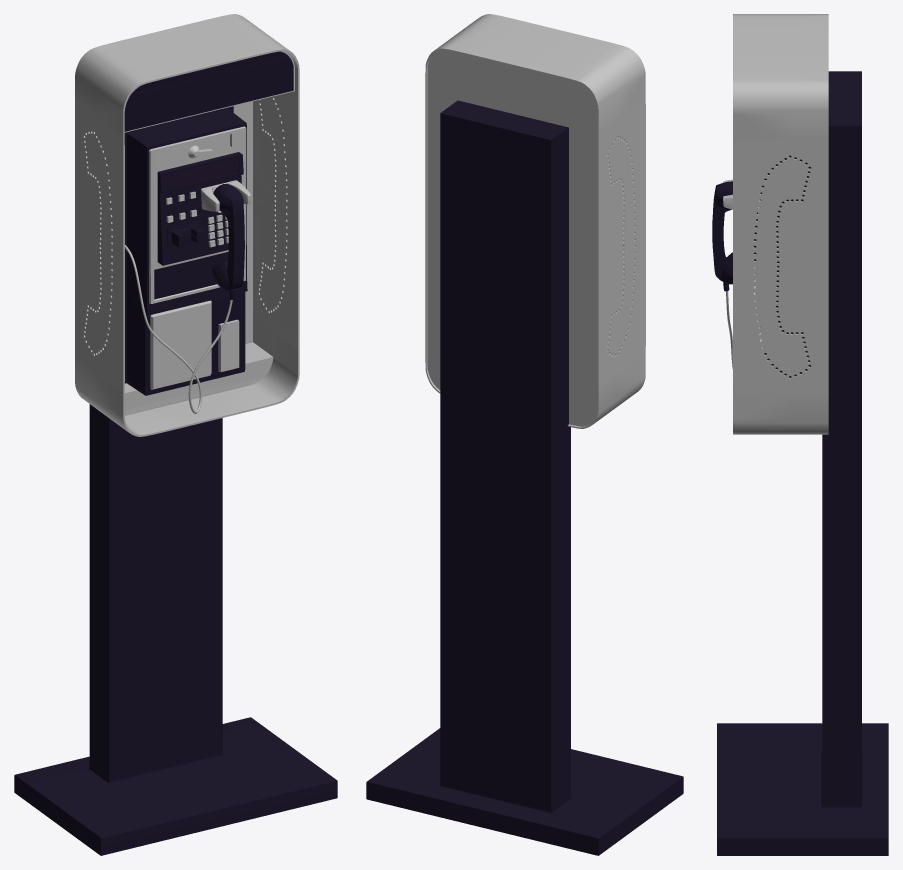
The model's file is HI_Res_PayPhone.fbx.
The picture shows the model from 3 angles, left to right: view 1: azimuth 30°, elevation 25°; view 2: azimuth 150°, elevation 25°; view 3: azimuth 270°, elevation 25°; orthographic projection.
Parts seen in each view (by area): view 1: polySurface250; view 2: polySurface250; view 3: polySurface250.
Part boxes in pixels (<box>): polySurface250: <box>14,14,337,855</box>; polySurface250: <box>366,14,683,855</box>; polySurface250: <box>712,14,888,855</box>.
Bounding box in the file's own units: 130 × 397 × 84.62.
